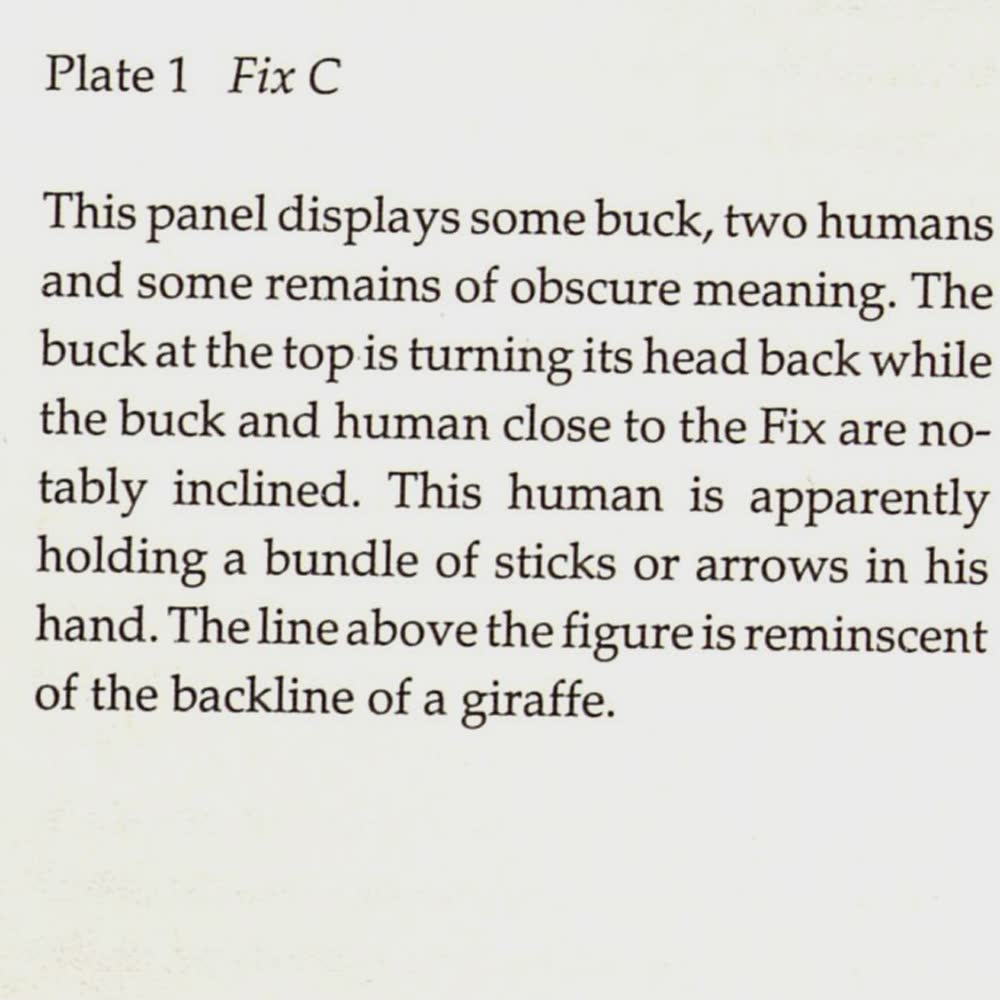text: (33, 48, 1000, 738)
